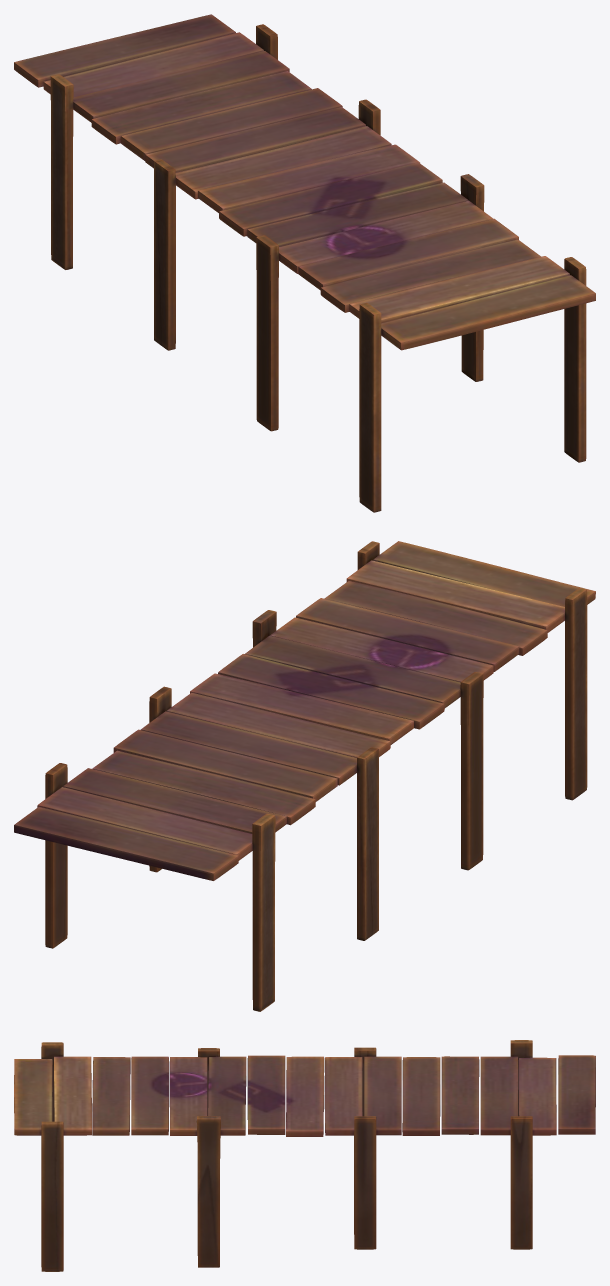
File: mutou2.FBX
3 renders of one model, top to bottom at view 1: azimuth 30°, elevation 25°; view 2: azimuth 150°, elevation 25°; view 3: azimuth 270°, elevation 25°, orthographic. The views are drawn at different scales.
Visible parts, largest first — view 1: Object003, Object002; view 2: Object003, Object002; view 3: Object003, Object002.
Boxes of the visible parts, x1,y1,x2,y2 form: Object003: (198, 144, 595, 512); Object002: (14, 14, 391, 350); Object003: (190, 541, 595, 870); Object002: (14, 686, 390, 1011); Object003: (14, 1042, 324, 1271); Object002: (324, 1040, 595, 1249).
Size of the model in its own units: 223 by 200 by 691.
